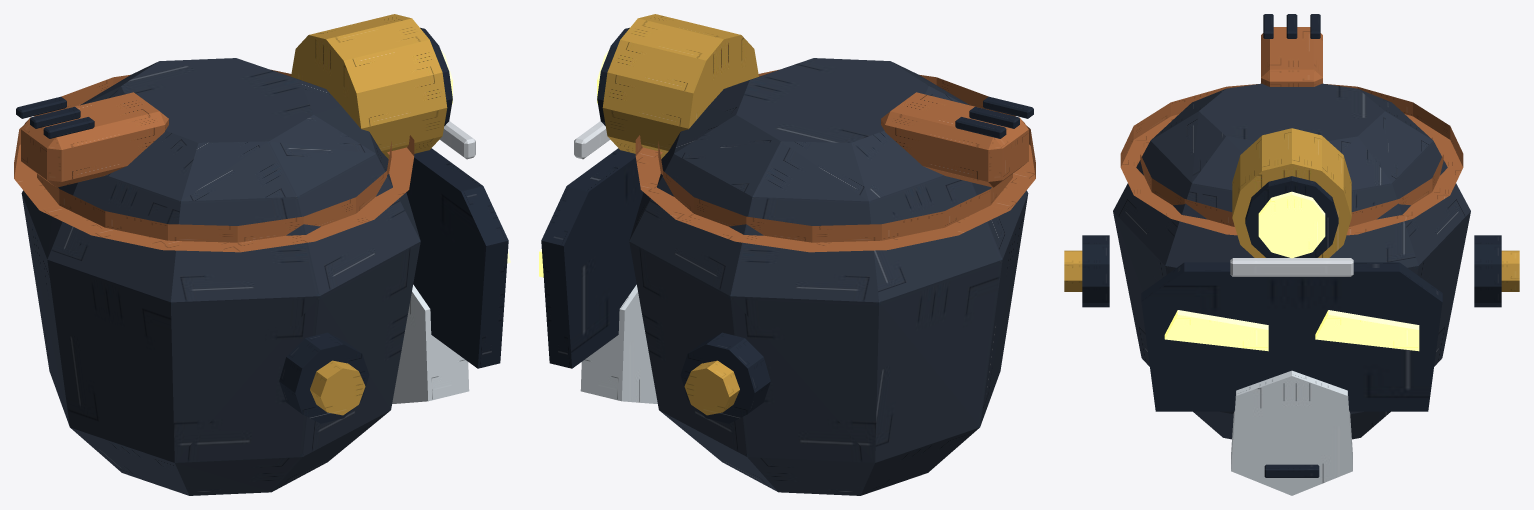
File: lampcap.glb
3 renders of one model, left to right at view 1: azimuth 30°, elevation 25°; view 2: azimuth 150°, elevation 25°; view 3: azimuth 270°, elevation 25°, orthographic. The views are drawn at different scales.
Visible parts, largest first — view 1: head; view 2: head; view 3: head.
Boxes of the visible parts, x1,y1,x2,y2 form: head: (14,14,510,495); head: (539,14,1035,495); head: (1064,14,1519,495).
Bounding box in the file's own units: 0.312 × 0.277 × 0.351.
Materials: 7 (7 with a texture image).
